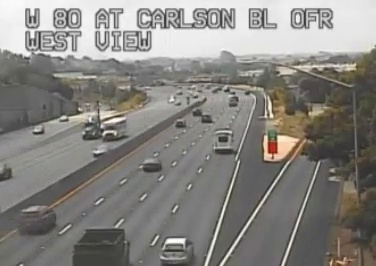bus: (212, 129, 234, 152)
car: (18, 206, 56, 231), (160, 237, 193, 263), (142, 157, 162, 171)
